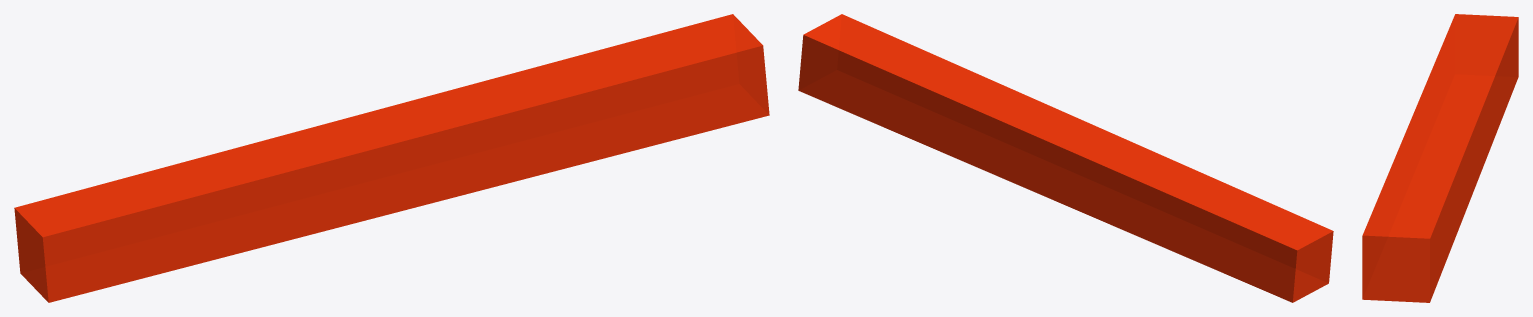
The model's file is Event_420094457_EErechit_31.fbx.
3 views of the same model, side by side, from view 1: azimuth 30°, elevation 25°; view 2: azimuth 150°, elevation 25°; view 3: azimuth 270°, elevation 25° (orthographic). The views are drawn at different scales.
Parts seen in each view (by area): view 1: Model; view 2: Model; view 3: Model.
Boxes of the visible parts, x1,y1,x2,y2 form: Model: (14,14,769,302); Model: (798,14,1333,302); Model: (1362,14,1518,302).
Size of the model in its own units: 0.7702 by 0.1469 by 0.1774.
